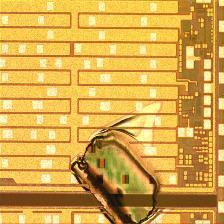PARTICLE: (70, 100, 172, 224)
